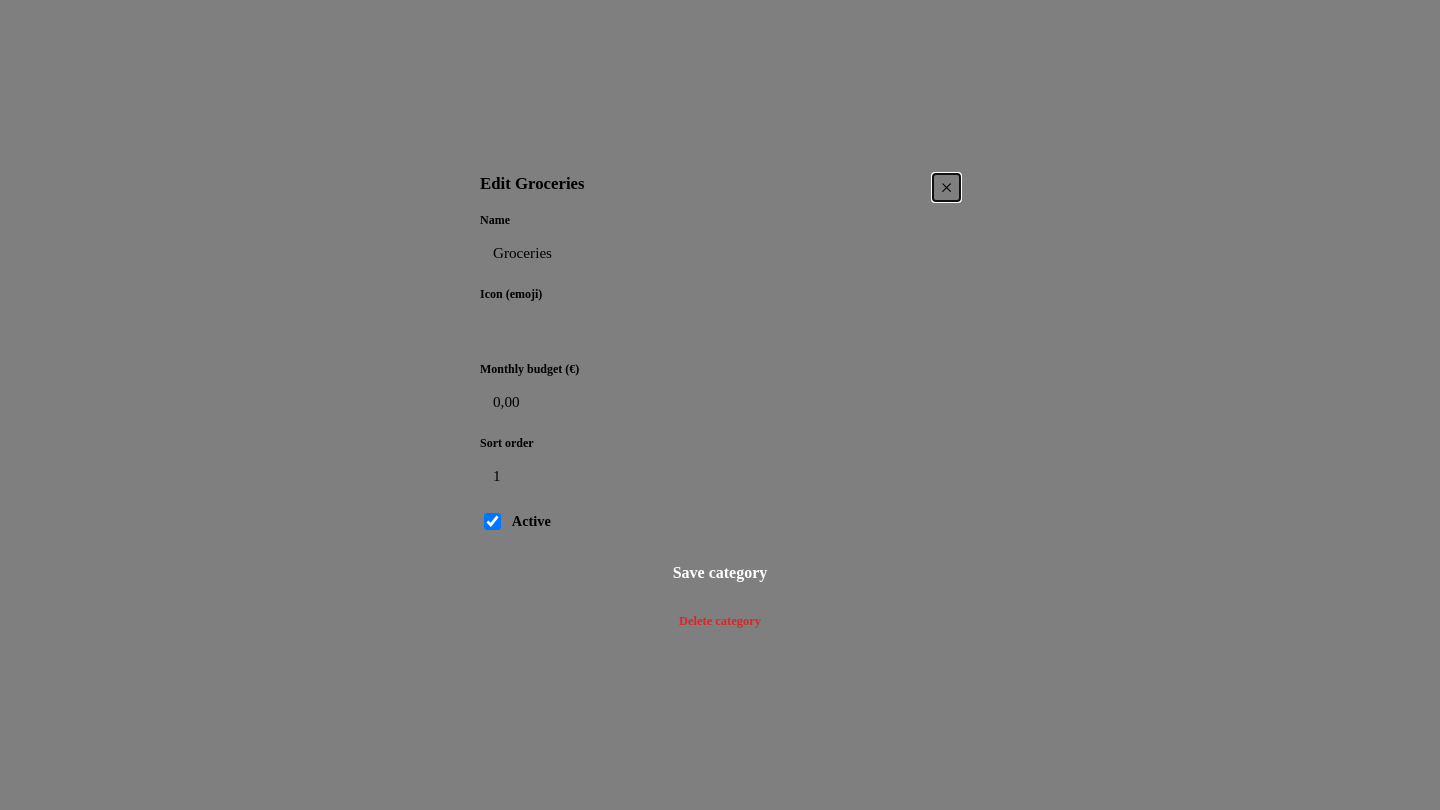
Scenario: ConfigModal delete control › lets a confirm reopened during the 409 escalation wait stand, instead of hijacking it
This screenshot has width=1440, height=810.
Click the button "Delete category" at (720, 621), box [480,608,960,634]
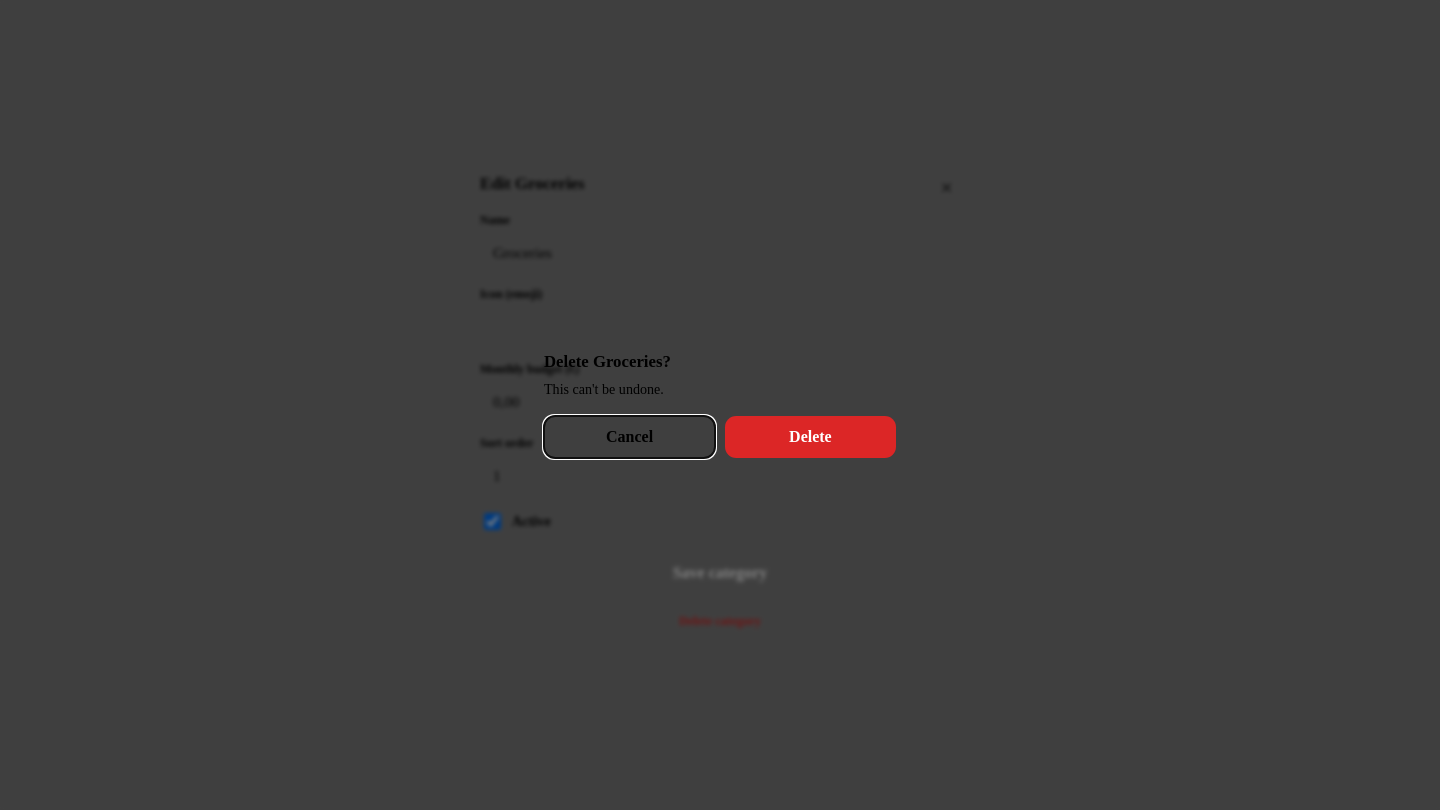
Click the button "Delete" at (810, 437), box [725,416,896,458]
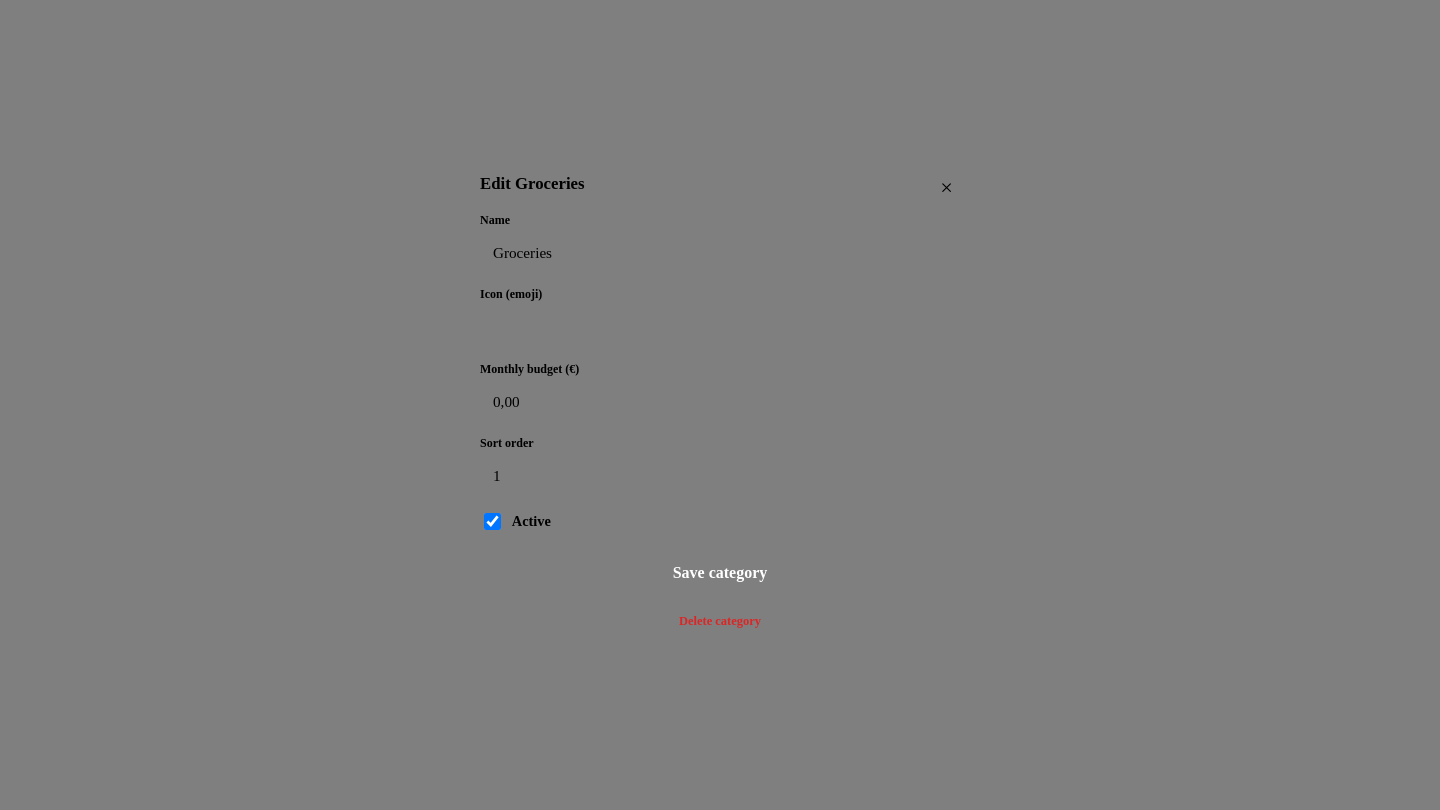
Click the button "Delete category" at (720, 621), box [480,608,960,634]
Wait 340 ms
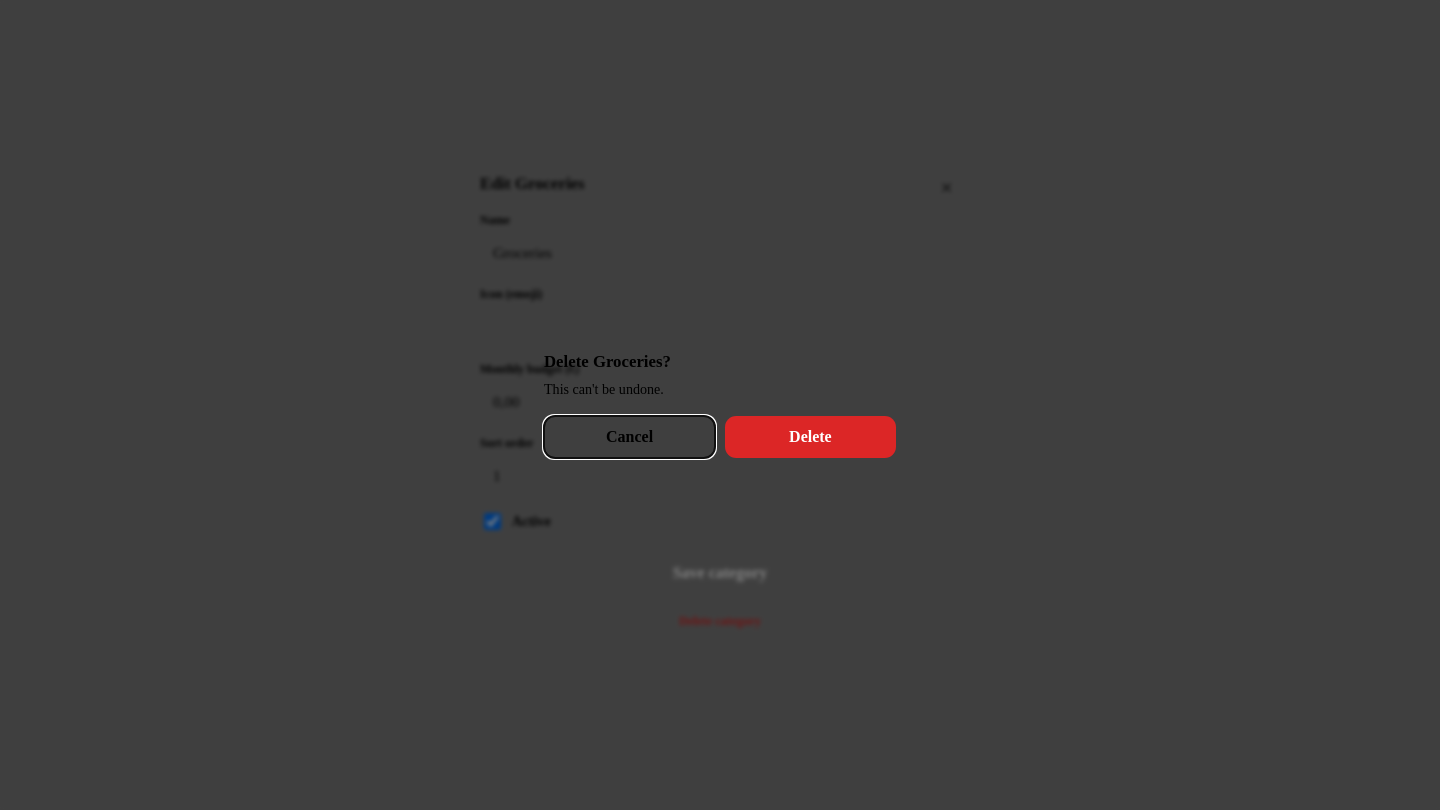
expect the text "This can't be undone." is shown: met, box [544,381,664,397]
